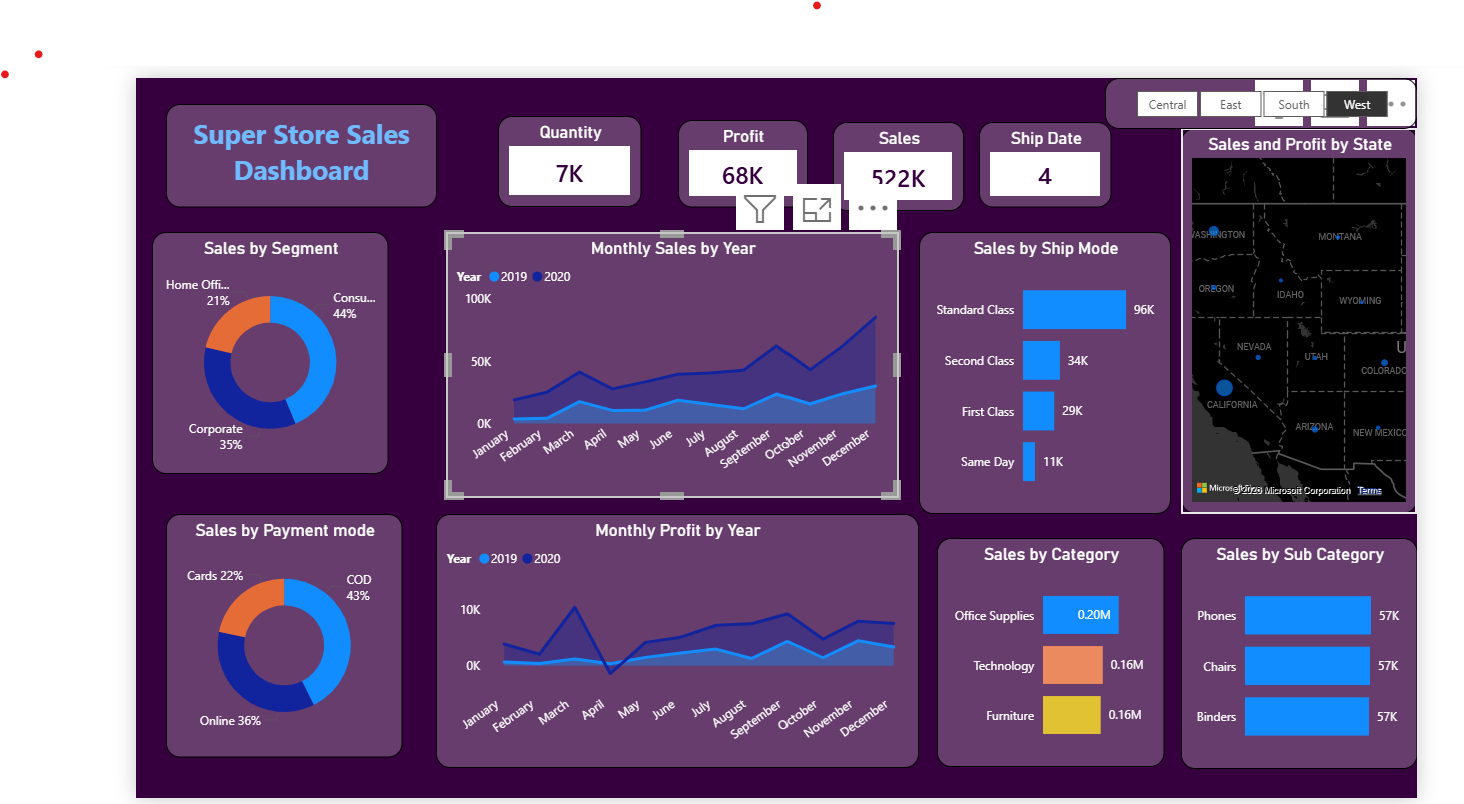

What the dashboard file says about the page in this screenshot:
{"tool":"powerbi","page":{"name":"Dashboard","canvas":[1280,720],"ordinal":0},"visuals":[{"type":"clusteredBarChart","title":"Sales by Category","fields":{"Category":["Sheet1.Category"],"Y":["Sum(Sheet1.Sales)"]},"box":[800,460,227.3,229.1],"z":0},{"type":"clusteredBarChart","title":"Sales by Sub Category","fields":{"Category":["Sheet1.Sub-Category"],"Y":["Sum(Sheet1.Sales)"]},"box":[1043.6,460,236.4,230.9],"z":1000},{"type":"clusteredBarChart","title":"Sales by Ship Mode","fields":{"Category":["Sheet1.Ship Mode"],"Y":["Sum(Sheet1.Sales)"]},"box":[782,154,252,282],"z":2000},{"type":"stackedAreaChart","title":"Monthly Sales by Year","fields":{"Category":["Sheet1.Order Date.Variation.Date Hierarchy.Month"],"Y":["Sum(Sheet1.Sales)"],"Series":["Sheet1.Order Date.Variation.Date Hierarchy.Year"]},"box":[309.1,154.5,452.7,265.5],"z":3000},{"type":"stackedAreaChart","title":"Monthly Profit by Year","fields":{"Category":["Sheet1.Order Date.Variation.Date Hierarchy.Month"],"Series":["Sheet1.Order Date.Variation.Date Hierarchy.Year"],"Y":["Sum(Sheet1.Profit)"]},"box":[300,436,482,254],"z":4000},{"type":"map","title":" Sales and  Profit by State","fields":{"Category":["Sheet1.State"],"Size":["Sum(Sheet1.Sales)"]},"box":[1043.6,50.9,236.4,385.5],"z":5000},{"type":"donutChart","title":"Sales by Segment","fields":{"Category":["Sheet1.Segment"],"Y":["Sum(Sheet1.Sales)"]},"box":[16.4,154.5,236.4,241.8],"z":6000},{"type":"donutChart","title":"Sales by Payment mode","fields":{"Category":["Sheet1.Payment Mode"],"Y":["Sum(Sheet1.Sales)"]},"box":[29.1,436.4,236.4,243.6],"z":7000},{"type":"slicer","fields":{"Values":["Sheet1.Region"]},"box":[967.3,0,312.7,50.9],"z":8000},{"type":"textbox","box":[29.1,25.5,270.9,103.6],"z":9000},{"type":"cardVisual","title":"Sales","fields":{"Data":["Sum(Sheet1.Sales)"]},"box":[696.4,43.6,130.9,89.1],"z":10000},{"type":"cardVisual","title":"Quantity","fields":{"Data":["Sum(Sheet1.Quantity)"]},"box":[361.8,38.2,143.6,90.9],"z":11000},{"type":"cardVisual","title":"Ship Date","fields":{"Data":["Avg(Sheet1.AvgDelivery)"]},"box":[841.8,43.6,132.7,85.5],"z":12000},{"type":"cardVisual","title":"Profit","fields":{"Data":["Sum(Sheet1.Profit)"]},"box":[541.8,41.8,129.1,87.3],"z":13000}]}

Visuals, with their boxes in screenshot pixels (x1, y1, x2, y2), scaled from the page's 1280x720 canvas onto the 1464x804 screenshot:
"Sales by Category" clusteredBarChart: [x1=915, y1=514, x2=1175, y2=769]
"Sales by Sub Category" clusteredBarChart: [x1=1194, y1=514, x2=1463, y2=772]
"Sales by Ship Mode" clusteredBarChart: [x1=894, y1=172, x2=1183, y2=487]
"Monthly Sales by Year" stackedAreaChart: [x1=354, y1=173, x2=871, y2=469]
"Monthly Profit by Year" stackedAreaChart: [x1=343, y1=487, x2=894, y2=770]
" Sales and  Profit by State" map: [x1=1194, y1=57, x2=1463, y2=487]
"Sales by Segment" donutChart: [x1=19, y1=173, x2=289, y2=443]
"Sales by Payment mode" donutChart: [x1=33, y1=487, x2=304, y2=759]
slicer - Sheet1.Region: [x1=1106, y1=0, x2=1463, y2=57]
textbox: [x1=33, y1=28, x2=343, y2=144]
"Sales" cardVisual: [x1=797, y1=49, x2=946, y2=148]
"Quantity" cardVisual: [x1=414, y1=43, x2=578, y2=144]
"Ship Date" cardVisual: [x1=963, y1=49, x2=1115, y2=144]
"Profit" cardVisual: [x1=620, y1=47, x2=767, y2=144]
